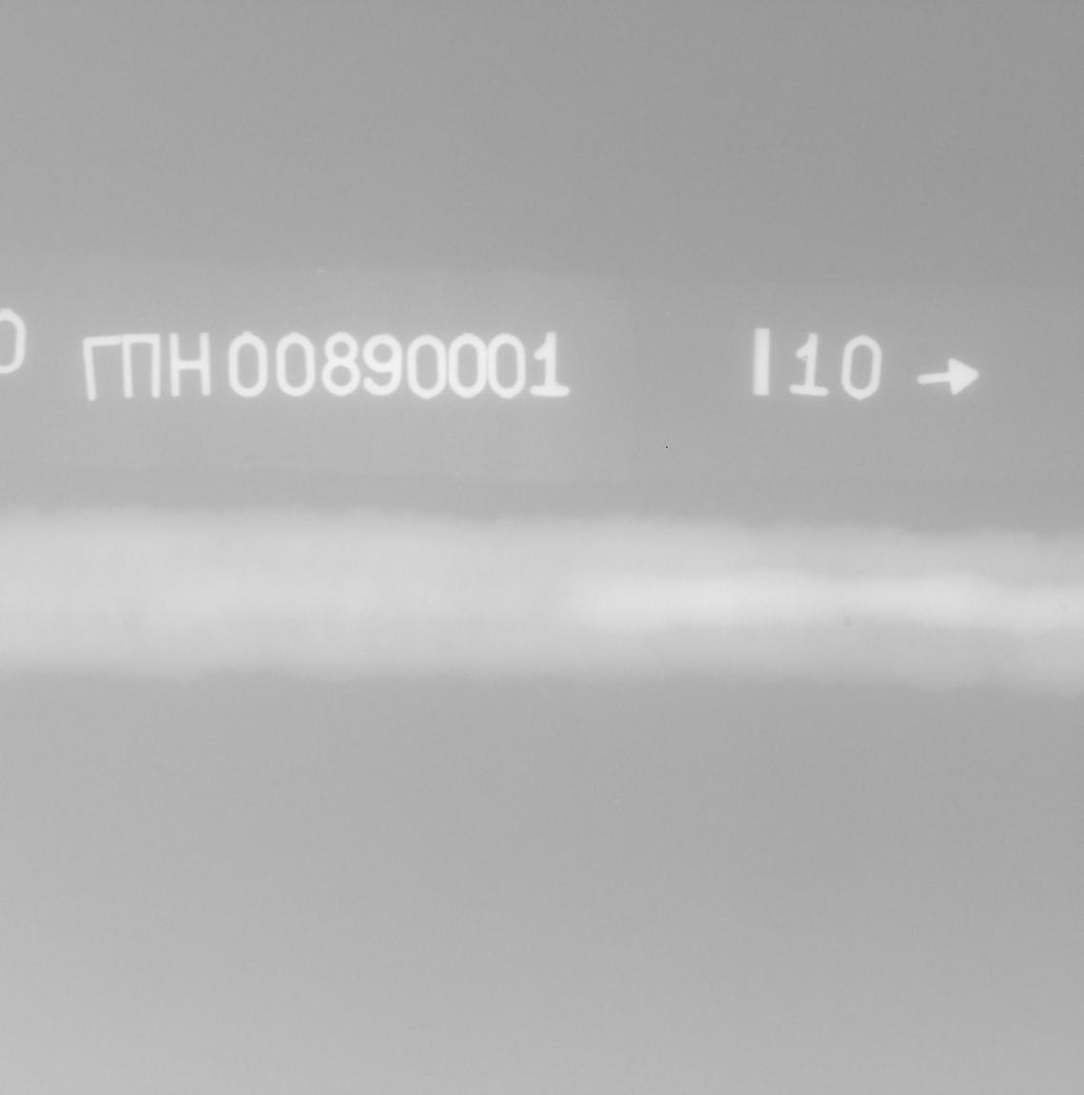Inclusion: (1060, 605, 1067, 609)
Pore/Porosity: (842, 616, 853, 627)
